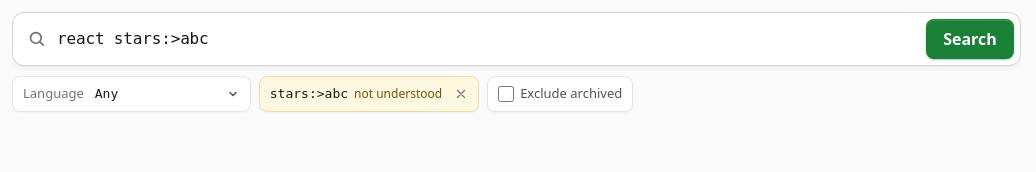
Test: SearchFilters › offers to remove a malformed value but never edits it
The image size is (1036, 172).
Expected: the text "not understood" is shown, [354,85,442,103]
Click the button named "Remove invalid stars filter stars:>abc": [461, 94] box [448,81,474,107]
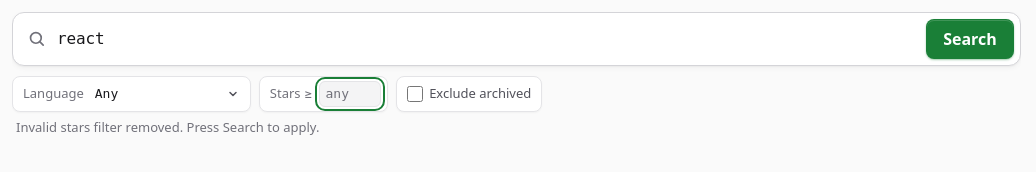
Expected: the dropdown named "Search repositories" holds "react", [12,12,1021,66]
